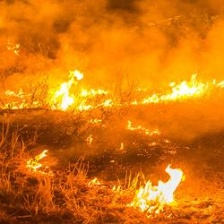fire: (47, 64, 217, 113), (139, 164, 185, 212), (28, 152, 51, 175)
